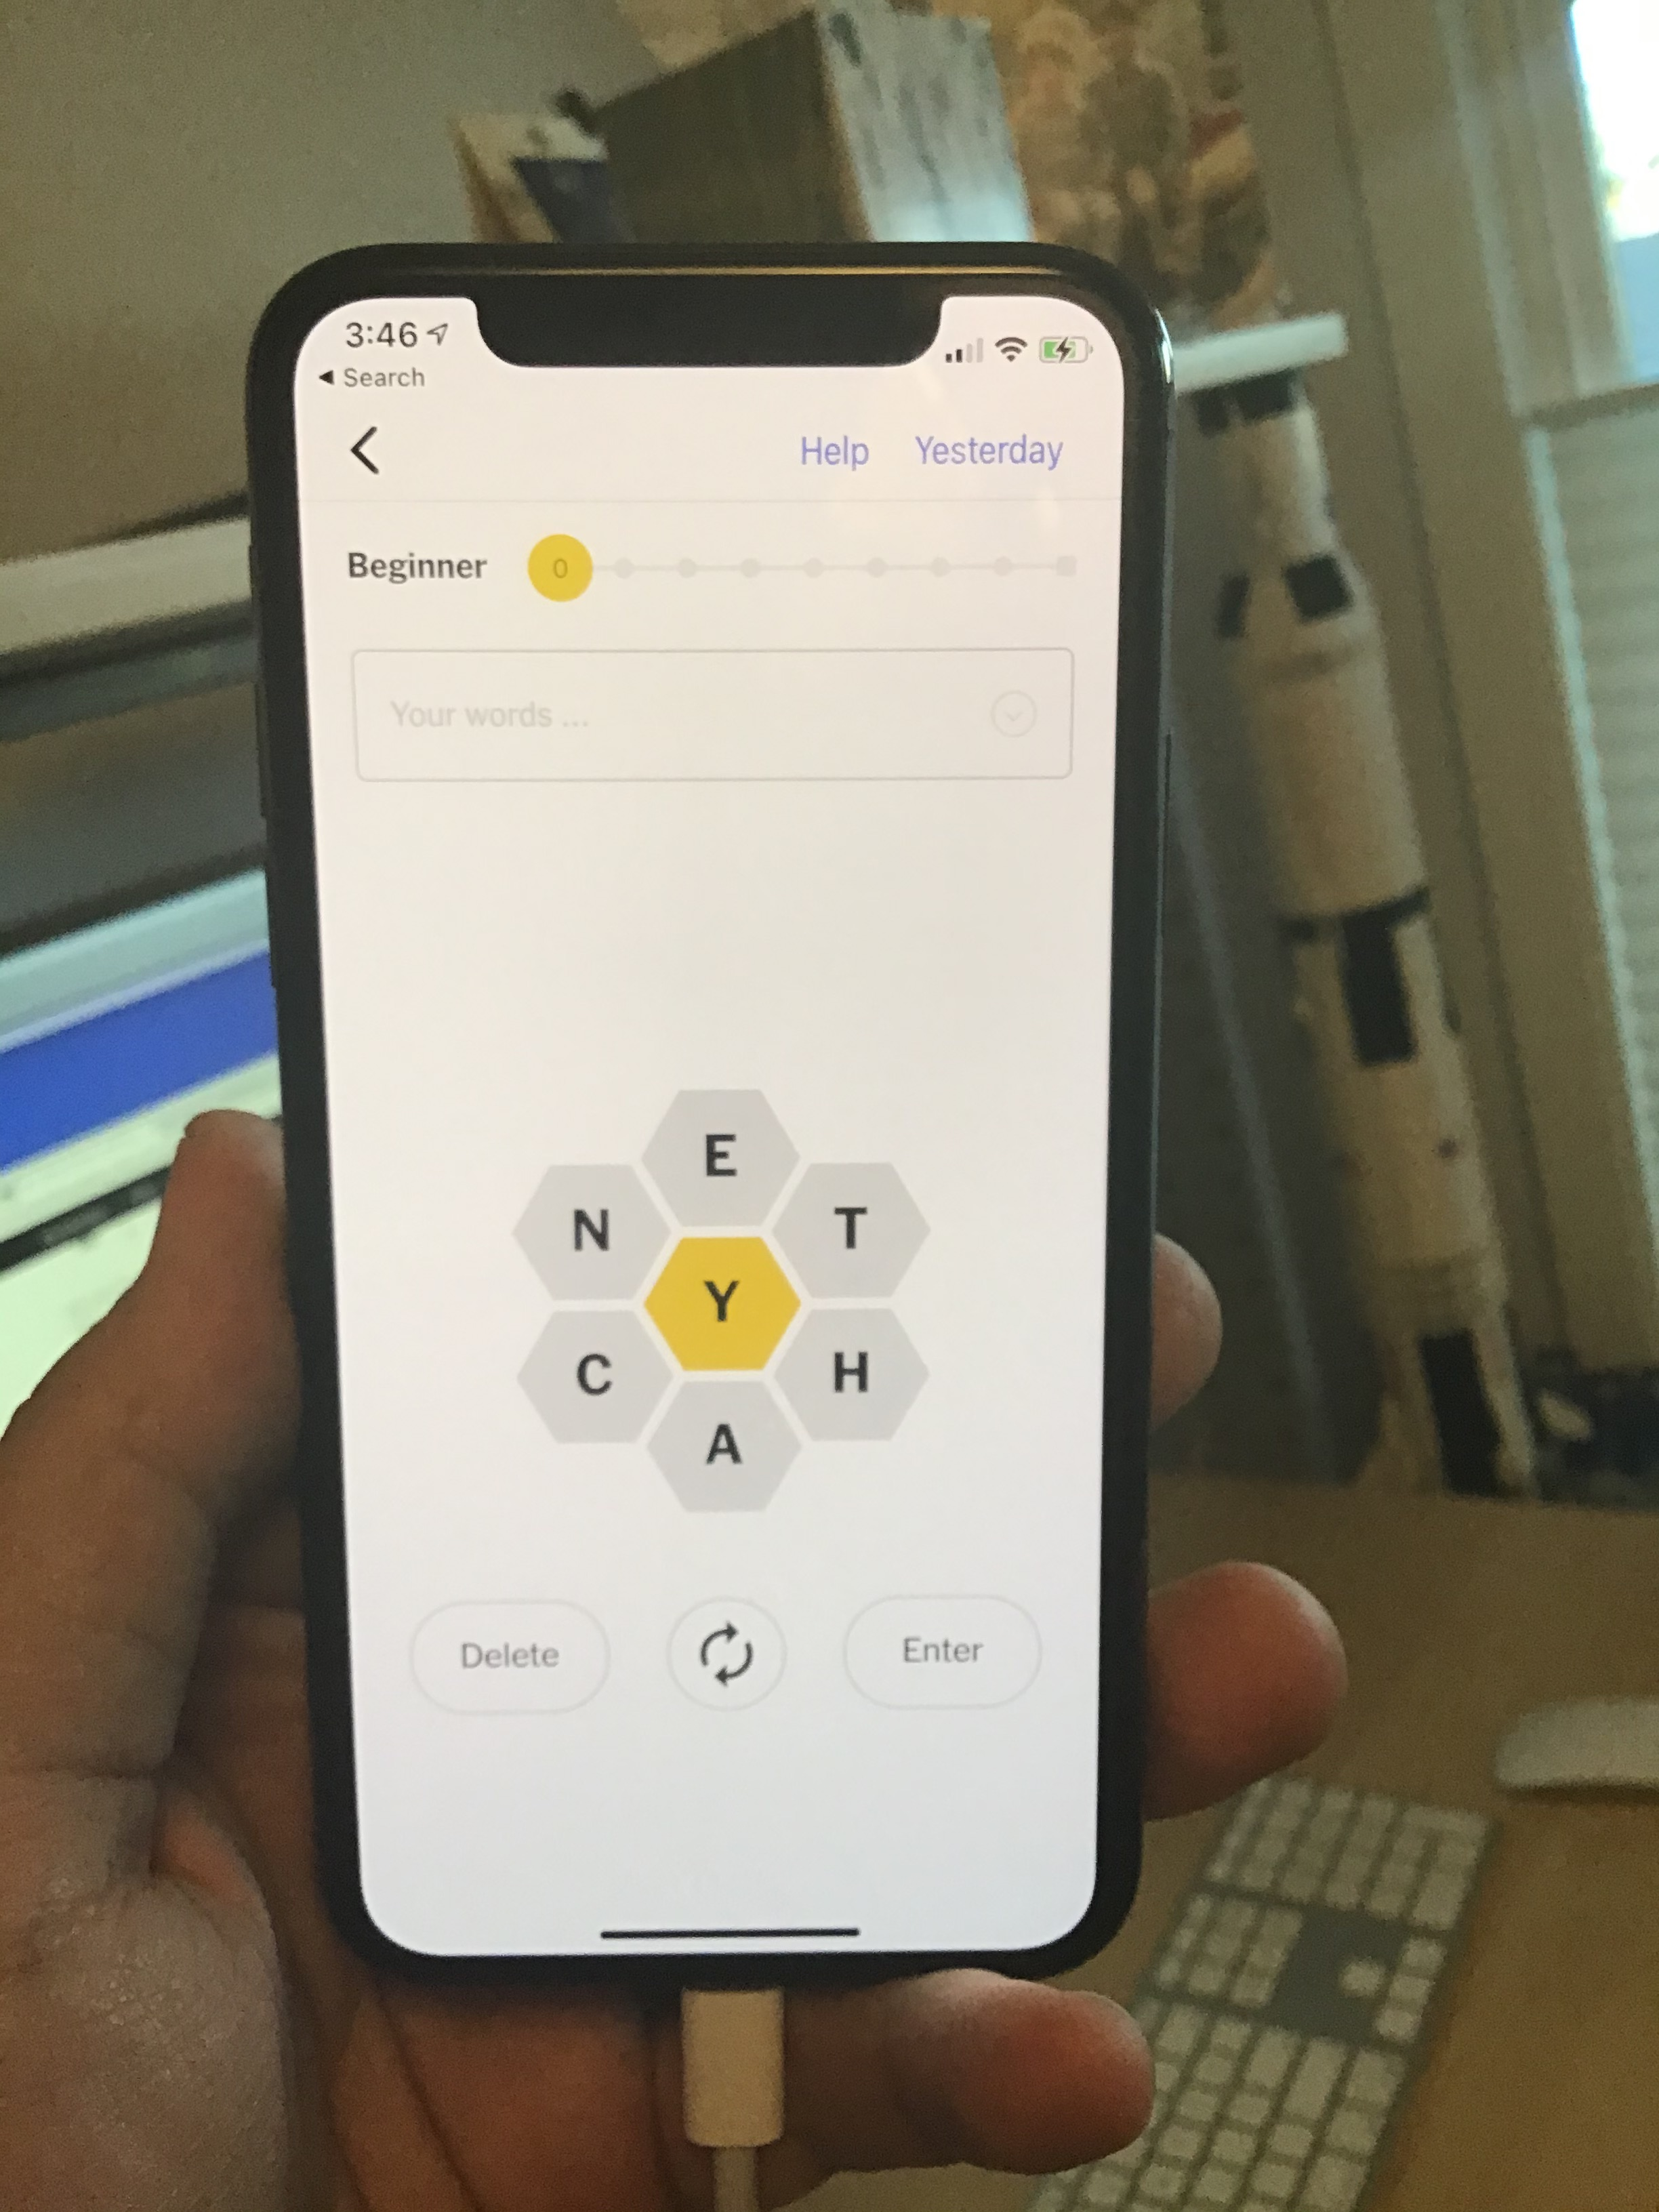Board: (462, 1036, 964, 1540)
